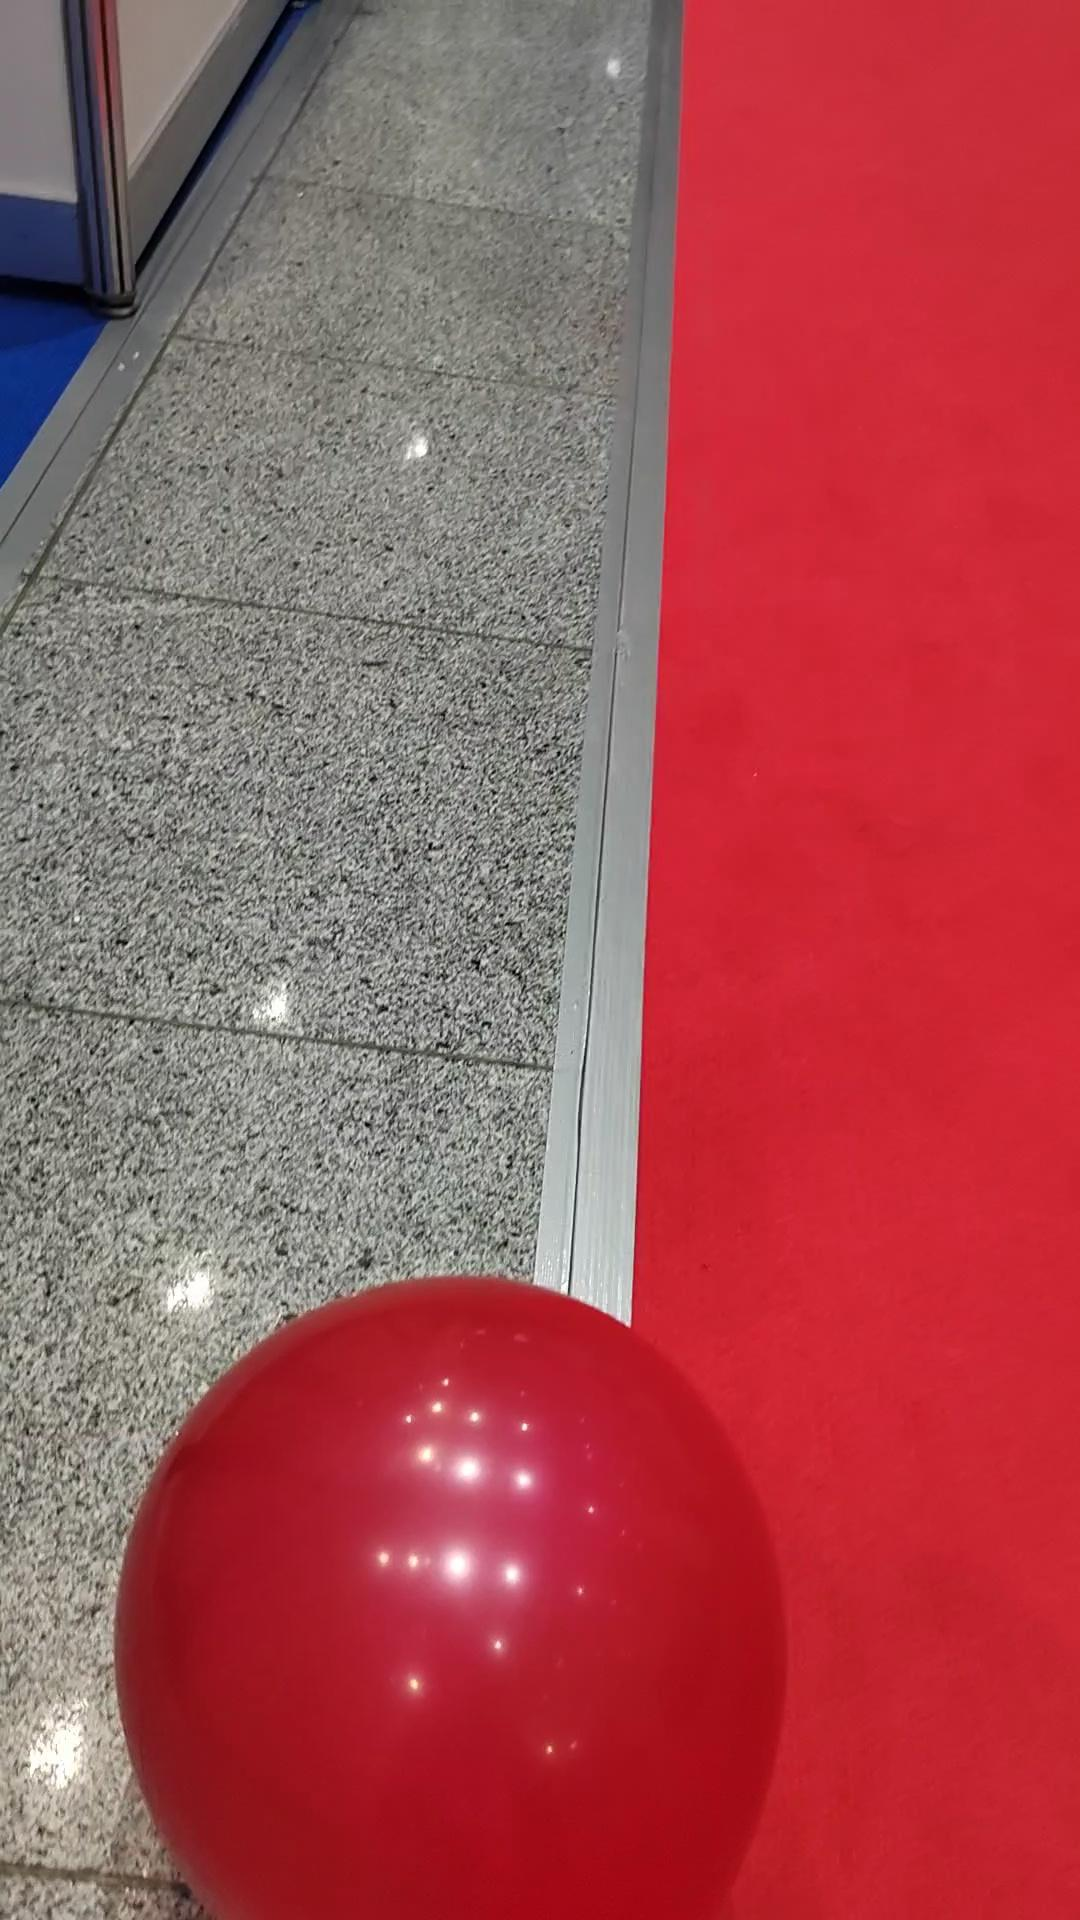red: (102, 1257, 790, 1920)
